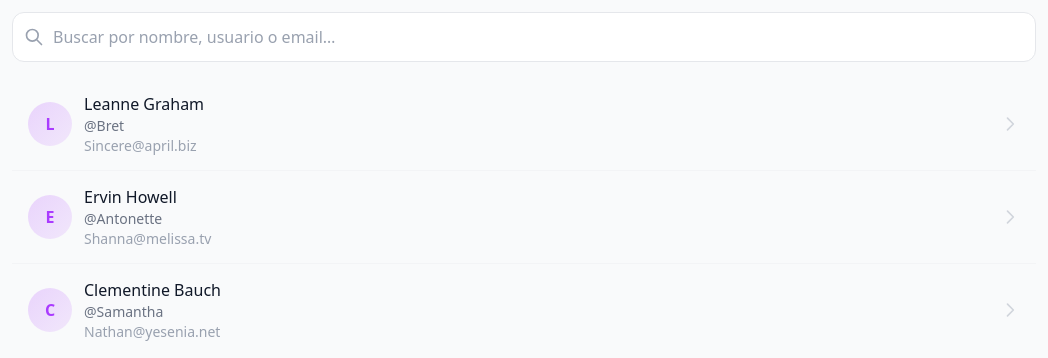
Test: UserList › renders user list and allows search by name
The image size is (1048, 358).
expect the heading "Leanne Graham" is shown: met, box [84,93,204,115]
expect the heading "Ervin Howell" is shown: met, box [84,186,177,208]
Search by name
Type "Leanne" into the search field with placeholder "Buscar por nombre, usuario o email…".
click(524, 37); type("Leanne")  # box [12,12,1036,62]
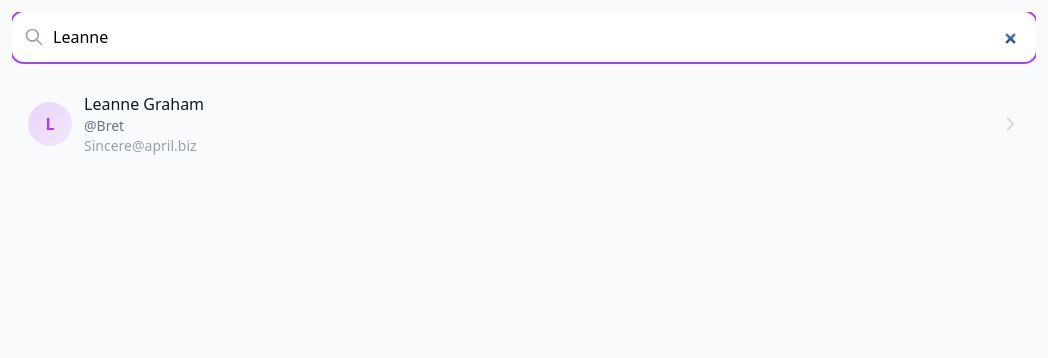
expect the heading "Leanne Graham" is shown: met, box [84,93,204,115]
expect the button "Ervin Howell" is gone: met
expect the button "Clementine Bauch" is gone: met
